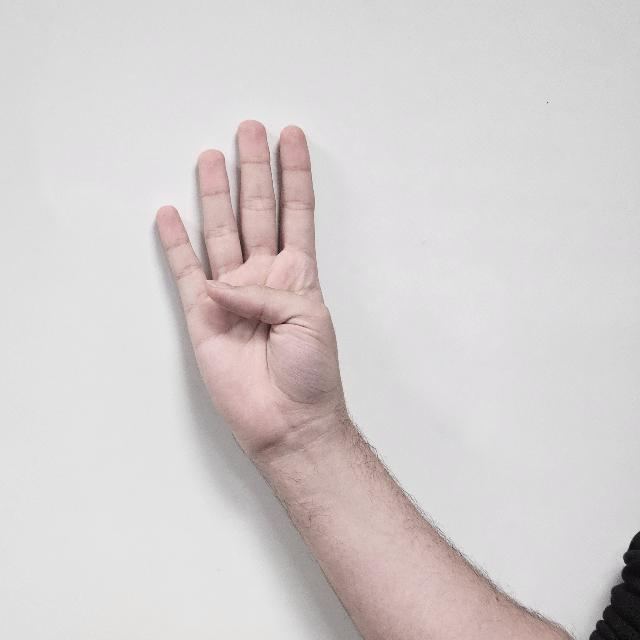Baixo: (154, 118, 360, 456)
